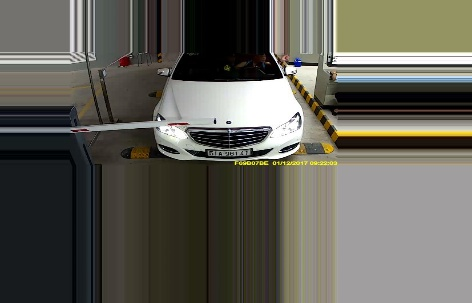plate: (206, 148, 253, 159)
